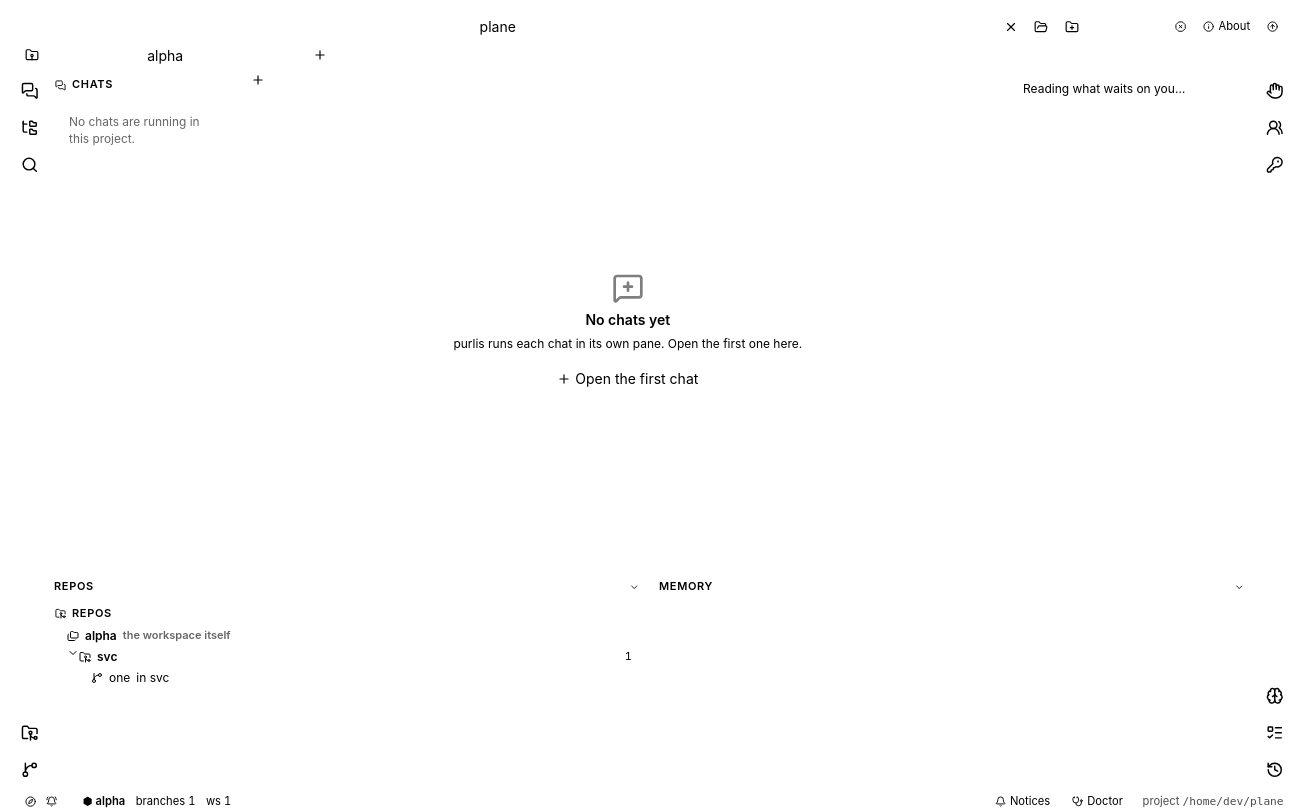
Test: a file or folder row's actions (FM-10) › copies a path through the core, by branch and path, and says so
Click the tab named "Explorer".
click(30, 128)  # box [12,110,47,145]
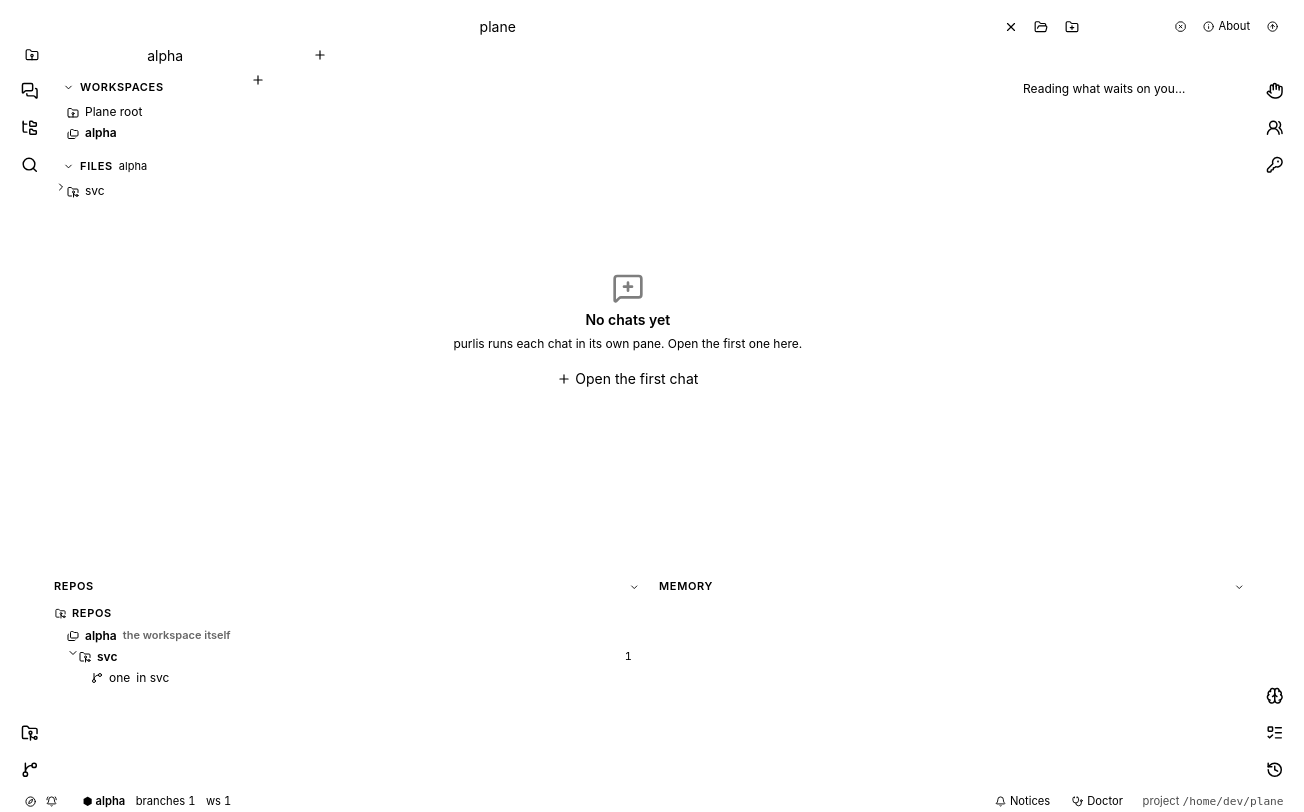
Click the list item "one in svc".
click(97, 678)  # box [55,668,644,688]
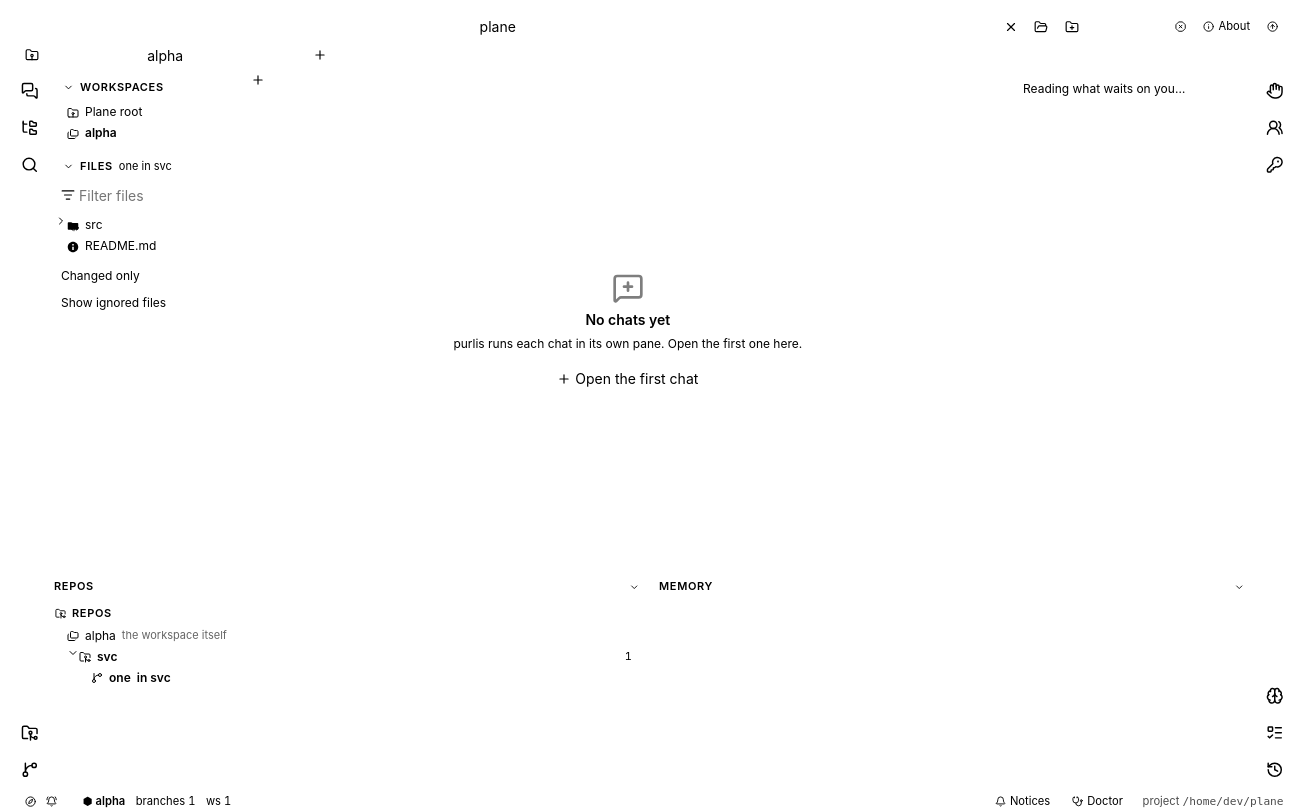
Right-click the list item "README.md".
right_click(144, 247)  # box [55,236,233,257]
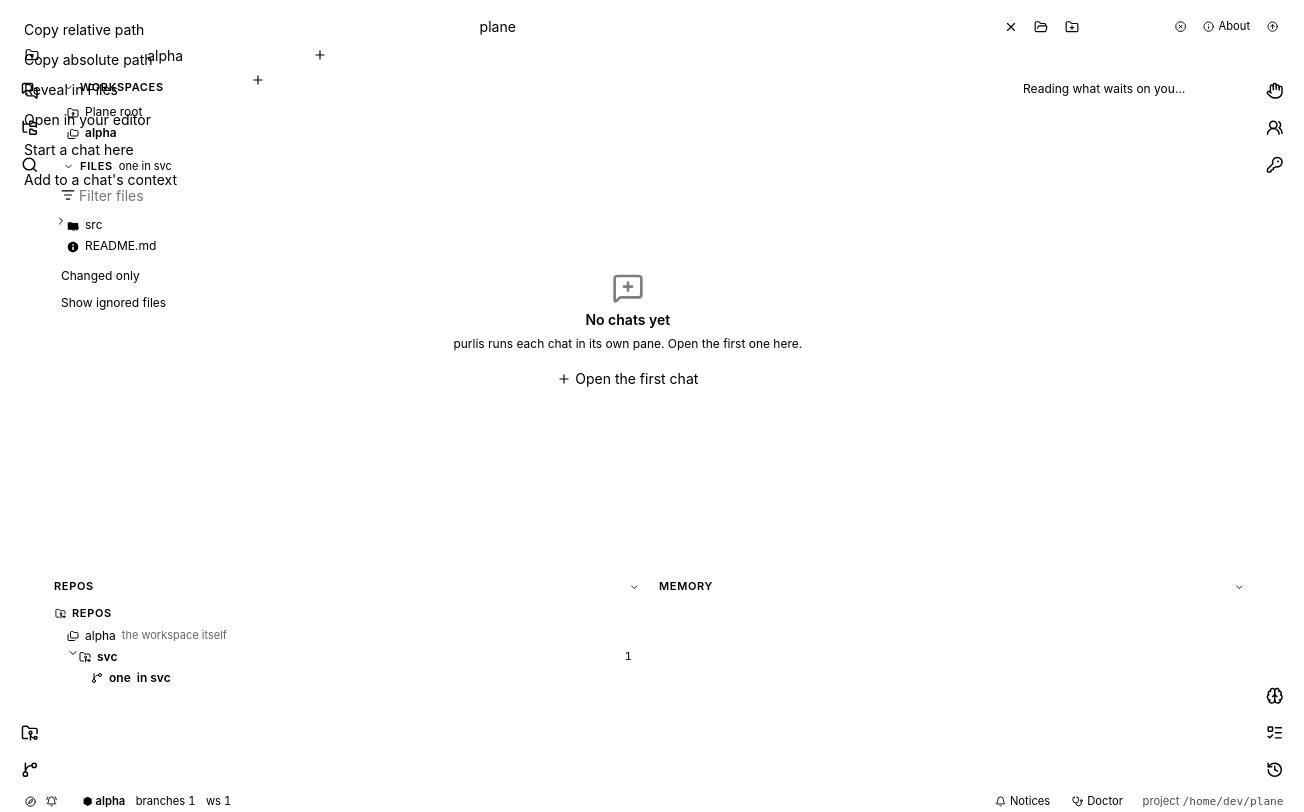
Click the menu item "Copy absolute path".
click(88, 60)  # box [24,51,153,68]
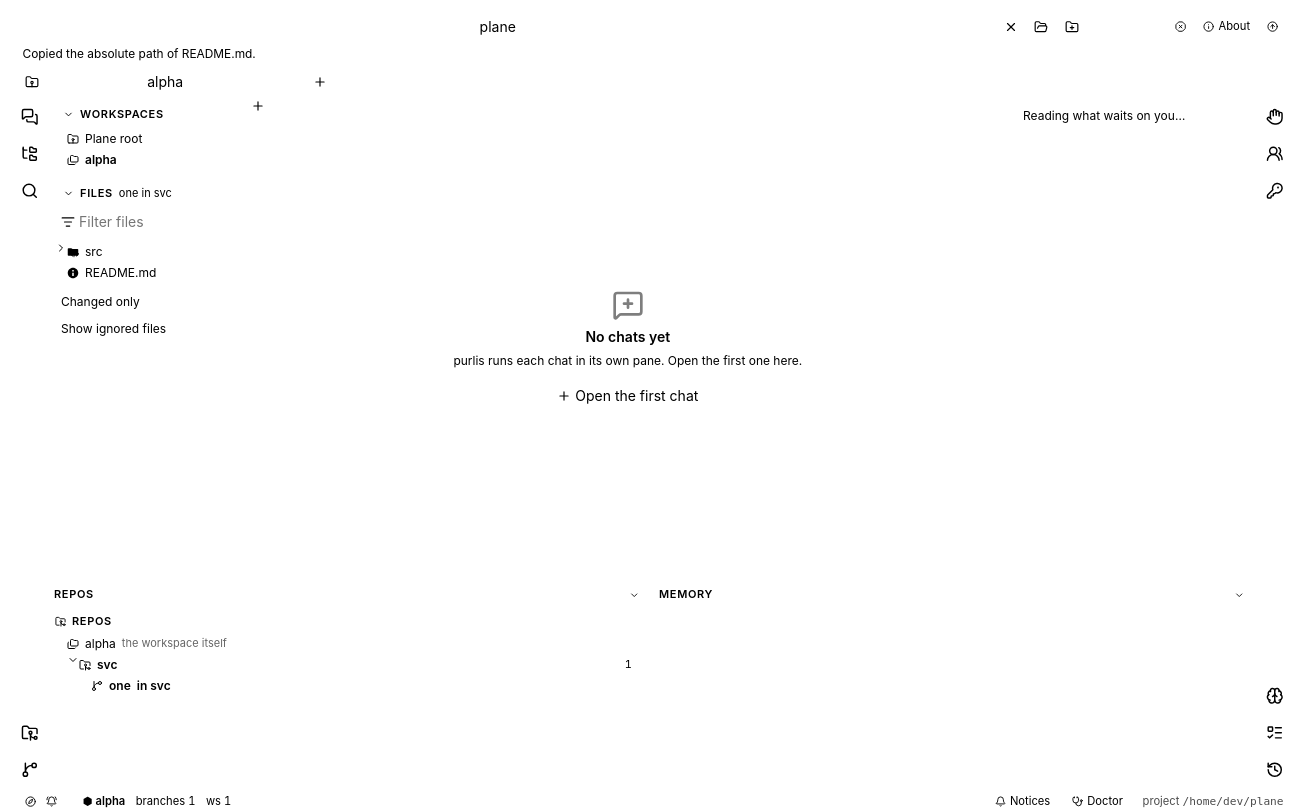
Now the text "Copied the absolute path of README.md." is shown, box [22,46,256,61]
